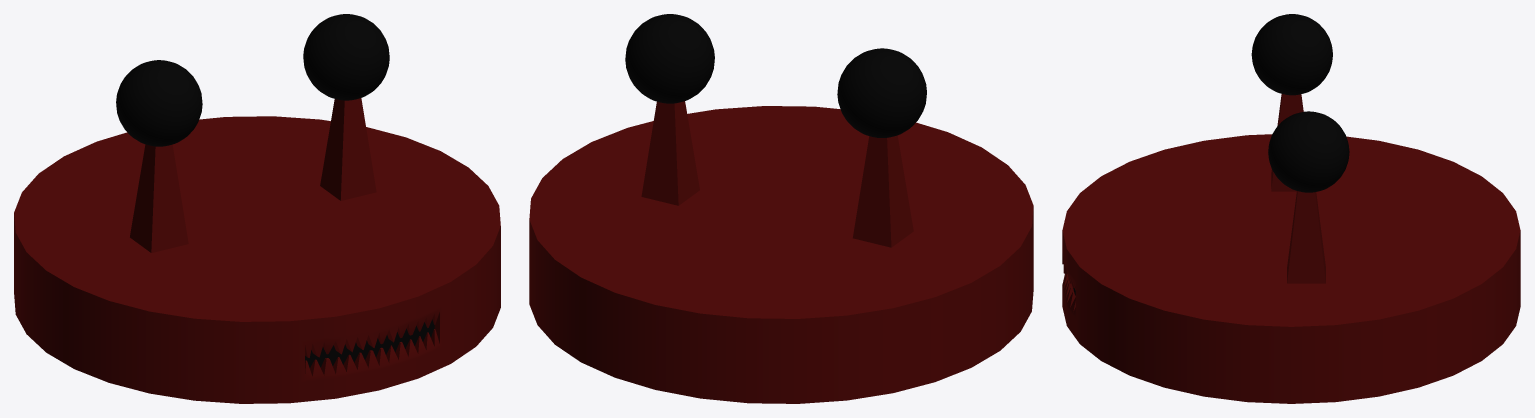
Rendered from Puck.fbx.
3 renders of one model, left to right at view 1: azimuth 30°, elevation 25°; view 2: azimuth 150°, elevation 25°; view 3: azimuth 270°, elevation 25°, orthographic. The views are drawn at different scales.
Parts seen in each view (by area): view 1: PuckMonster; view 2: PuckMonster; view 3: PuckMonster.
Boxes of the visible parts, x1,y1,x2,y2 form: PuckMonster: (14, 14, 500, 403); PuckMonster: (529, 14, 1033, 403); PuckMonster: (1062, 14, 1520, 403).
Size of the model in its own units: 114 by 67.11 by 114.
